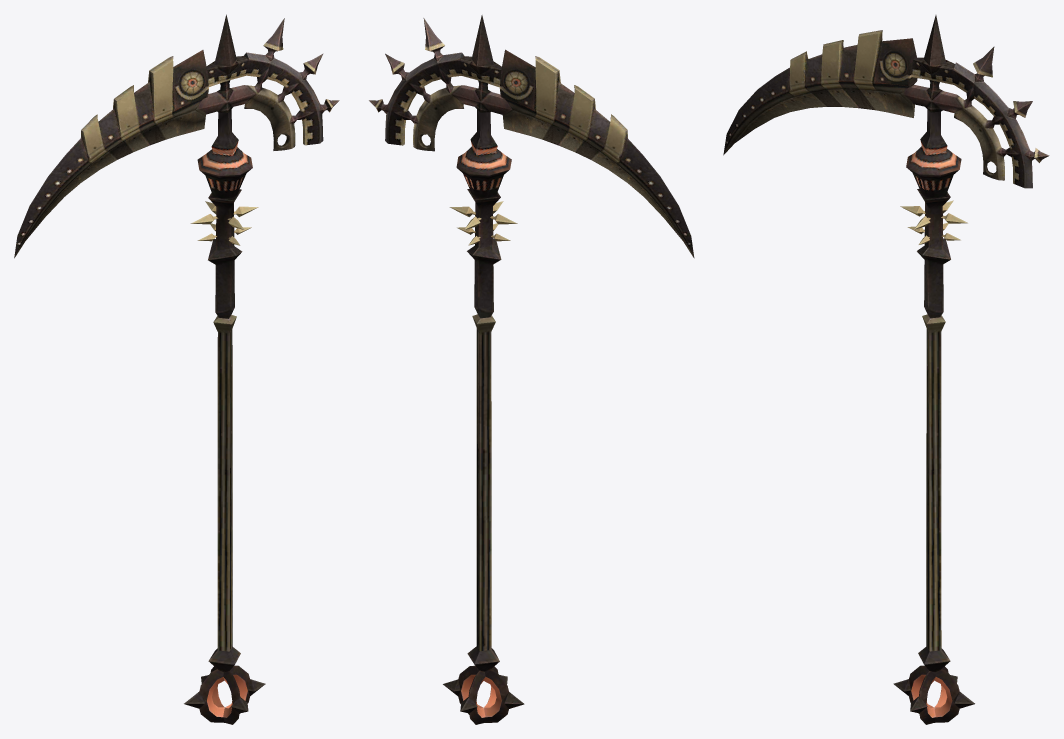
Rendered from Weapon17_A.FBX.
3 renders of one model, left to right at view 1: azimuth 30°, elevation 25°; view 2: azimuth 150°, elevation 25°; view 3: azimuth 330°, elevation 25°, orthographic.
Parts seen in each view (by area): view 1: Weapon17_A; view 2: Weapon17_A; view 3: Weapon17_A.
Boxes of the visible parts, x1,y1,x2,y2 form: Weapon17_A: (14, 14, 339, 724); Weapon17_A: (369, 15, 694, 724); Weapon17_A: (723, 15, 1049, 724).
Bounding box in the file's own units: 108 × 224 × 27.28.
